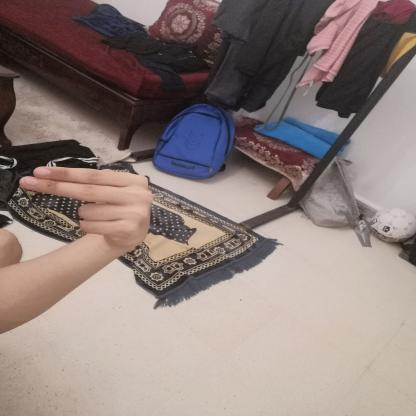AYN: (7, 160, 161, 256)
